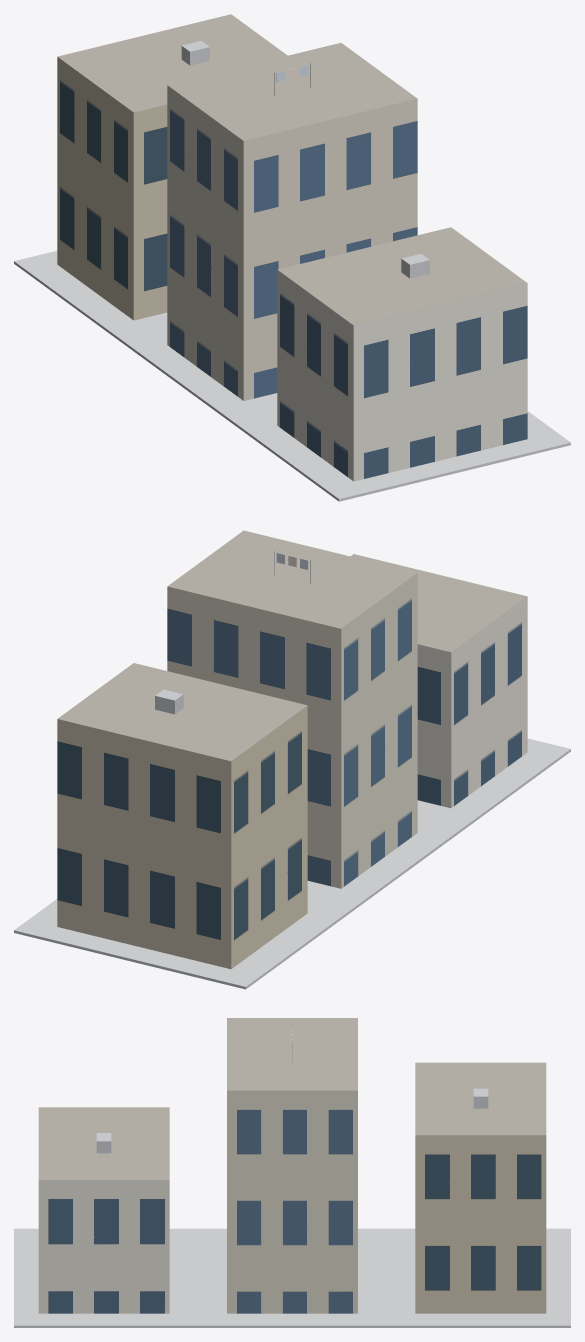
The model's file is Area_home.glb.
The picture shows the model from 3 angles, top to bottom: view 1: azimuth 30°, elevation 25°; view 2: azimuth 150°, elevation 25°; view 3: azimuth 270°, elevation 25°; orthographic projection. The views are drawn at different scales.
Parts seen in each view (by area): view 1: bldg_home.001, bldg_home, bldg_home.002, platform.007; view 2: bldg_home.002, bldg_home.001, bldg_home, platform.007, roof_ac.002; view 3: bldg_home.001, bldg_home.002, bldg_home, platform.007.
Boxes of the visible parts, box(x1,y1,x2,y2) form: bldg_home.001: box(167, 43, 417, 400); bldg_home: box(277, 227, 527, 481); bldg_home.002: box(57, 14, 287, 320); platform.007: box(14, 251, 570, 501); bldg_home.002: box(57, 663, 307, 969); bldg_home.001: box(167, 530, 417, 888); bldg_home: box(350, 554, 527, 808); platform.007: box(14, 738, 570, 989); roof_ac.002: box(155, 689, 183, 714); bldg_home.001: box(227, 1018, 357, 1313); bldg_home.002: box(415, 1062, 546, 1313); bldg_home: box(38, 1107, 169, 1313); platform.007: box(14, 1228, 570, 1327).
Bounding box in the file's own units: 14 × 16.55 × 34.
9 materials, 3 textured.
